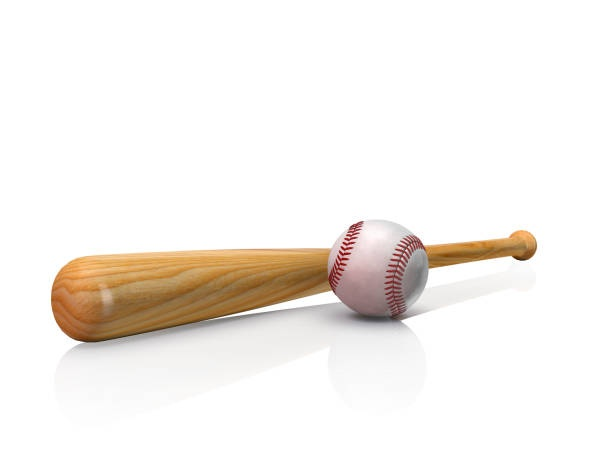bita: (55, 231, 533, 345)
